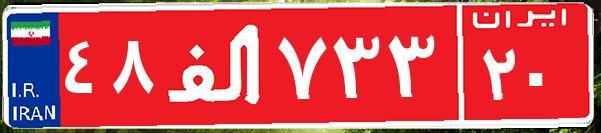0: (525, 38, 570, 115)
2: (475, 38, 525, 113)
3: (385, 28, 445, 110), (330, 28, 385, 110)
4: (57, 26, 110, 107)
7: (273, 28, 330, 110)
8: (110, 28, 158, 105)
الف: (158, 15, 273, 115)
